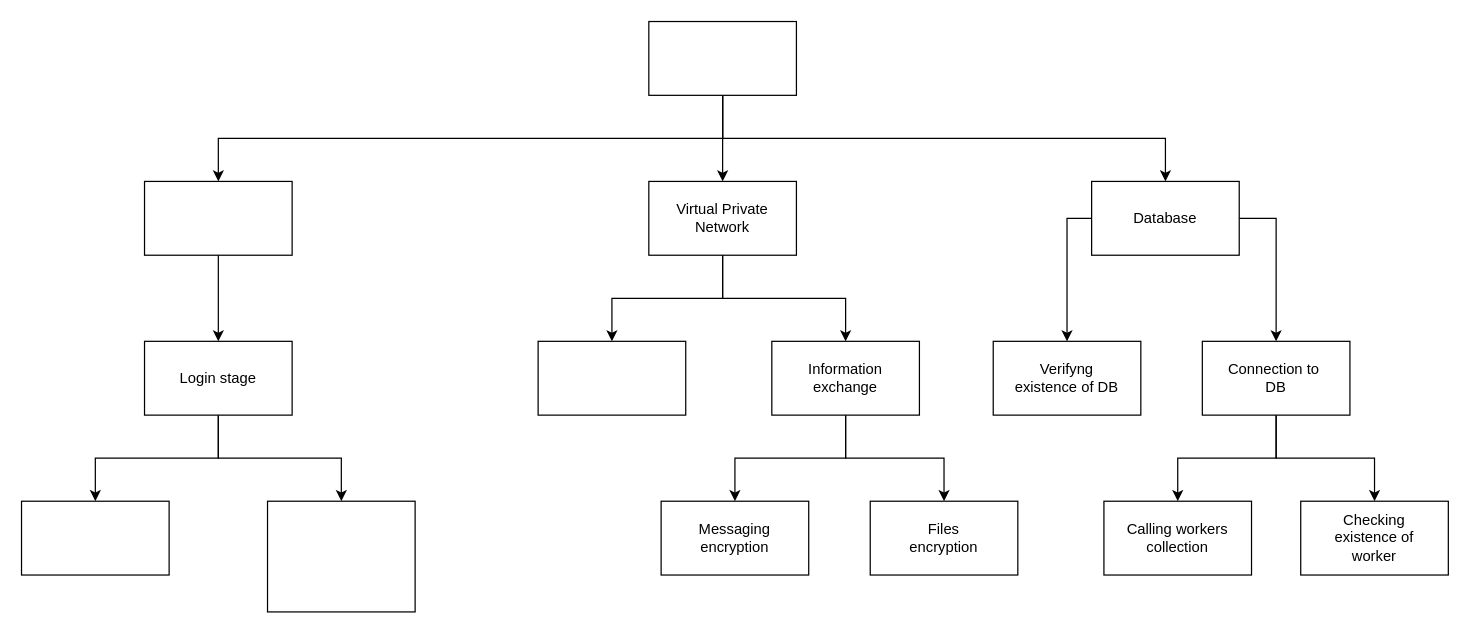
Some shapes in this 1470 by 633 pixel diagram are drawn without their labels. The shapes that lost their labels are listed below. From the top down, each one's centre as x and y in pixels, then its label:
pixel 722 57: VPN Project
pixel 217 217: Company`s Interface
pixel 611 377: IP modification process
pixel 94 537: Loggin into existing account
pixel 340 556: Signing up into company's network
